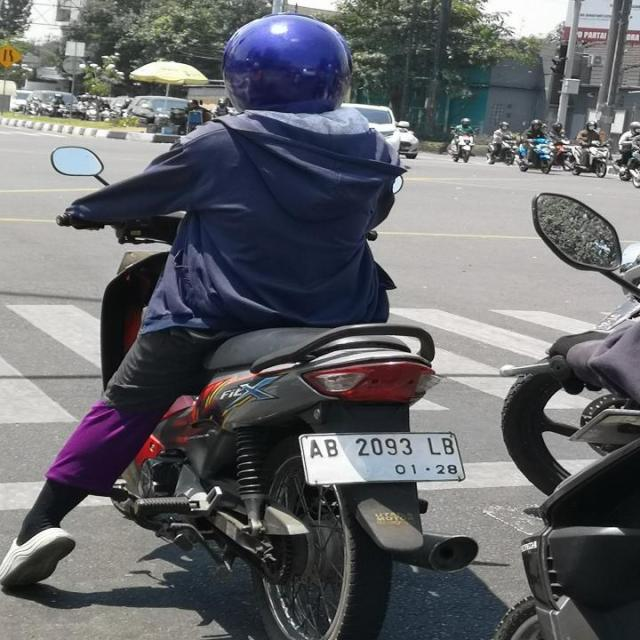License Plate: (295, 429, 468, 491)
